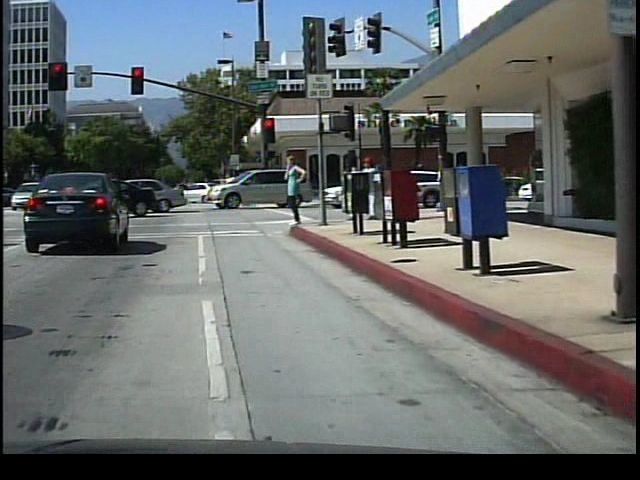person: (283, 148, 313, 227), (361, 151, 386, 223), (342, 150, 364, 220)
